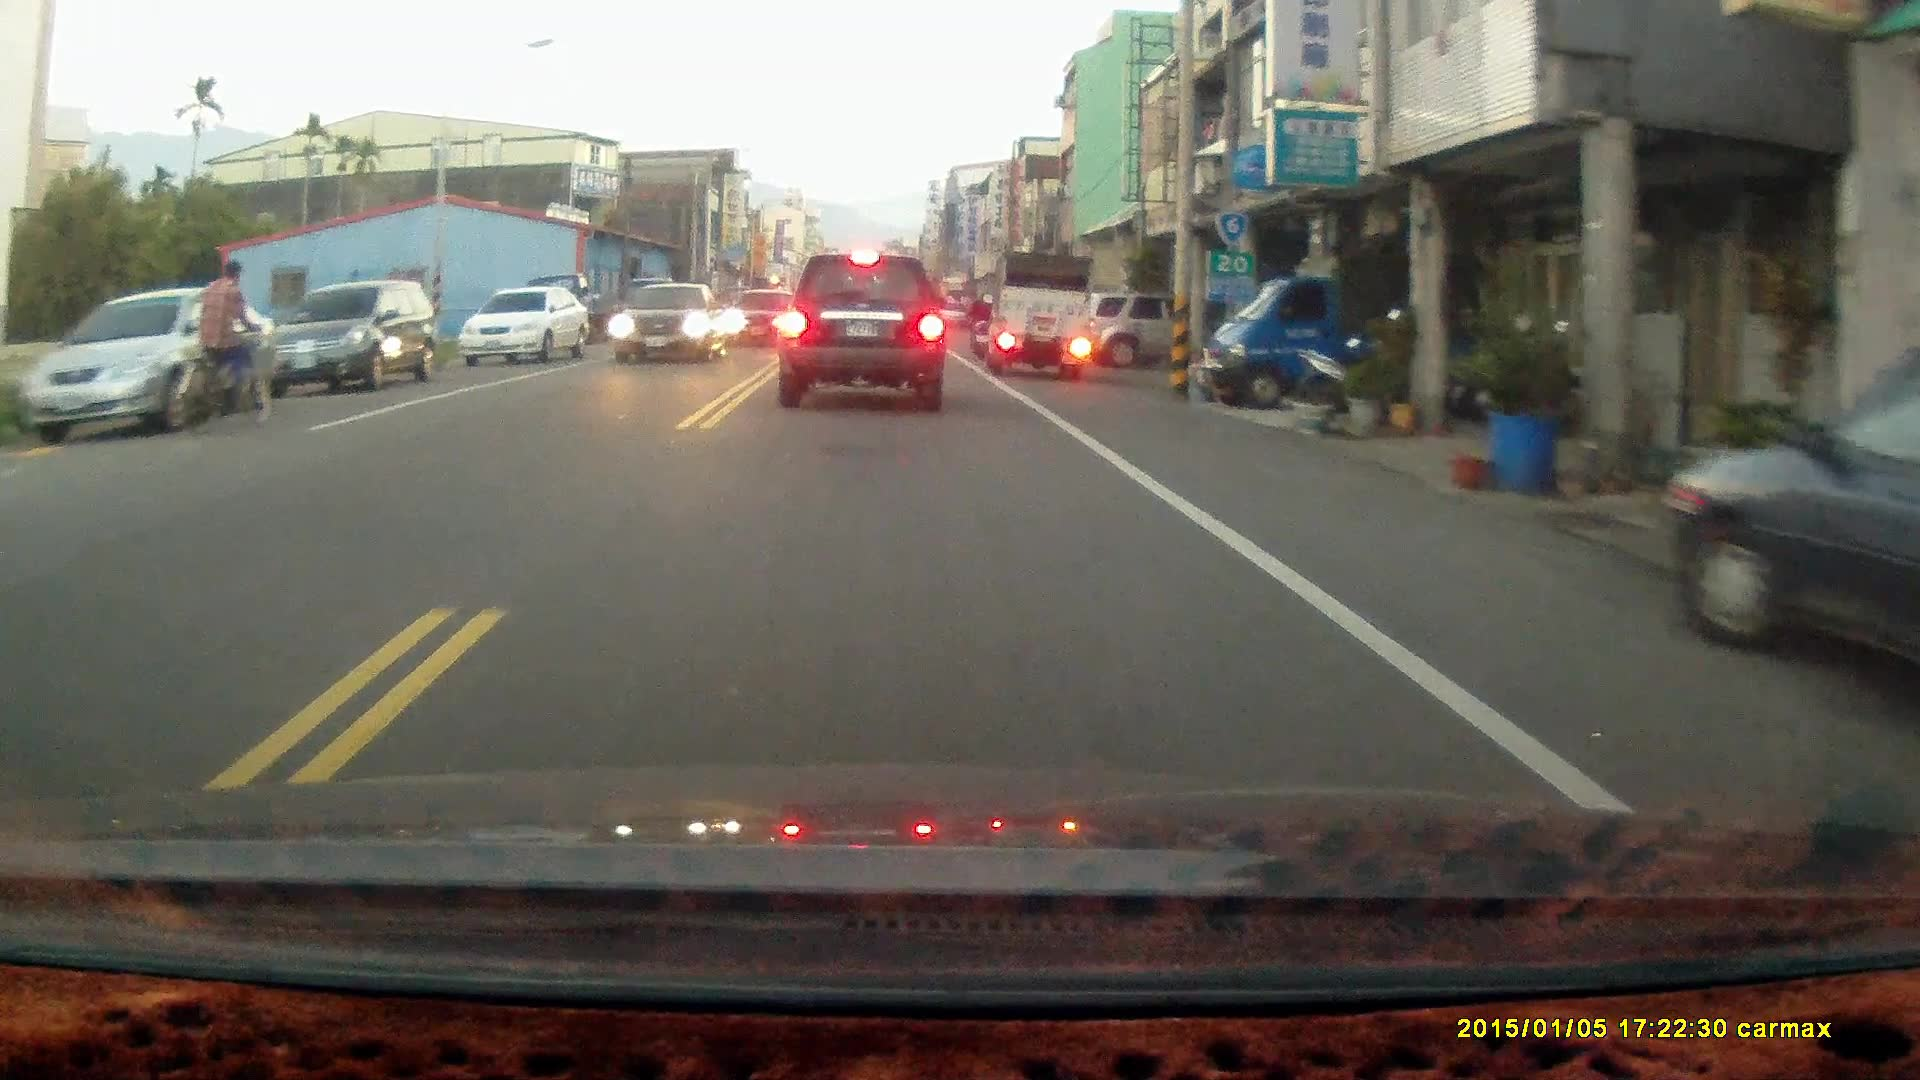rider: (174, 255, 273, 434), (964, 282, 999, 361)
vehicle: (1659, 354, 1920, 699), (1209, 232, 1417, 413), (27, 291, 269, 445), (777, 251, 948, 412), (261, 279, 446, 398), (990, 252, 1094, 381), (463, 287, 598, 369), (616, 282, 726, 365), (1088, 288, 1175, 371), (725, 286, 796, 352)
